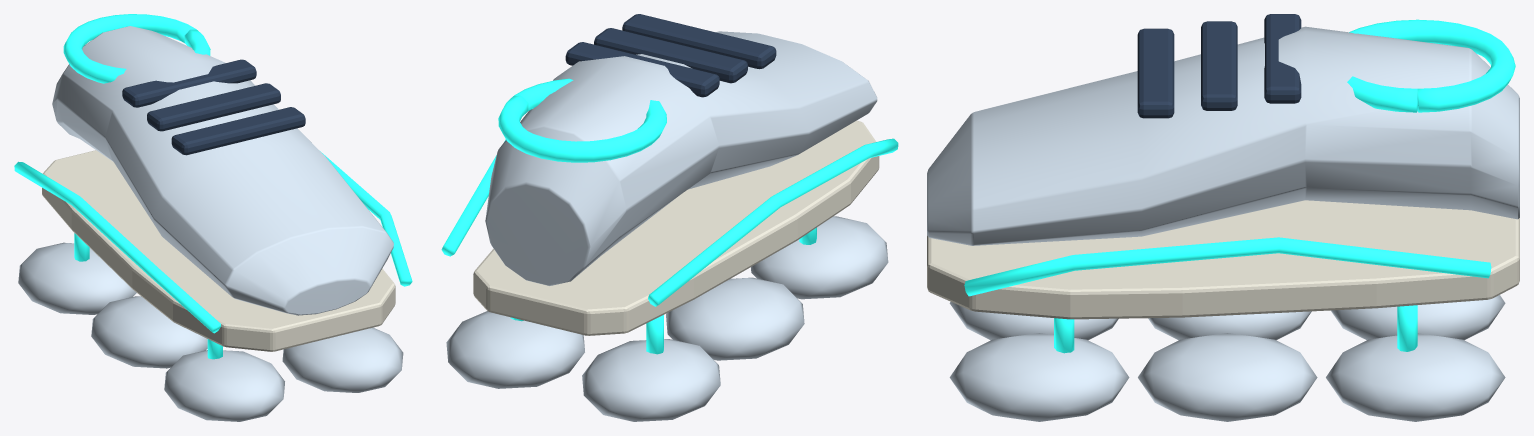
File: CloudsoleStriders.glb
The picture shows the model from 3 angles, left to right: view 1: azimuth 30°, elevation 25°; view 2: azimuth 150°, elevation 25°; view 3: azimuth 270°, elevation 25°; orthographic projection. The views are drawn at different scales.
Parts seen in each view (by area): view 1: CloudsoleStriders_StaticSurfaces; view 2: CloudsoleStriders_StaticSurfaces; view 3: CloudsoleStriders_StaticSurfaces.
Part boxes in pixels (left/top/right/bottom): CloudsoleStriders_StaticSurfaces: left=14, top=14, right=412, bottom=421; CloudsoleStriders_StaticSurfaces: left=441, top=14, right=898, bottom=421; CloudsoleStriders_StaticSurfaces: left=927, top=14, right=1519, bottom=421.
Bounding box in the file's own units: 0.1756 × 0.178 × 0.29.
